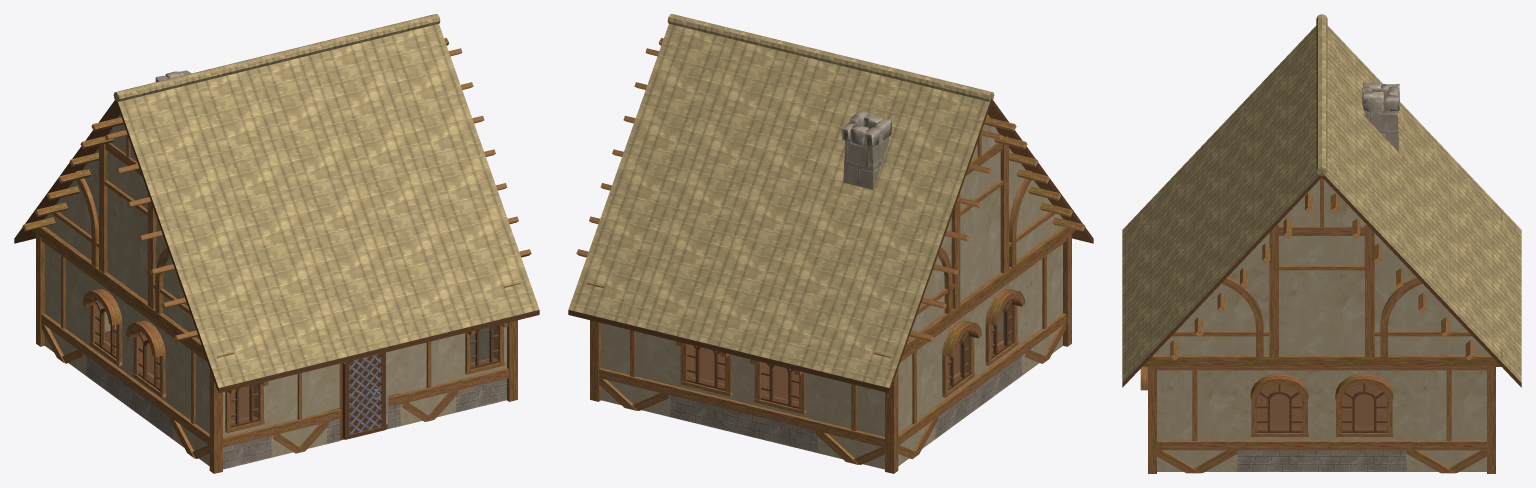
Rendered from house1.glb.
The picture shows the model from 3 angles, left to right: view 1: azimuth 30°, elevation 25°; view 2: azimuth 150°, elevation 25°; view 3: azimuth 270°, elevation 25°; orthographic projection. The views are drawn at different scales.
Visible parts, largest first — view 1: Wall_Plaster_Door_Round.001; view 2: Wall_Plaster_Door_Round.001; view 3: Wall_Plaster_Door_Round.001.
Boxes of the visible parts, x1,y1,x2,y2 form: Wall_Plaster_Door_Round.001: (14,14,539,473); Wall_Plaster_Door_Round.001: (568,14,1093,473); Wall_Plaster_Door_Round.001: (1122,14,1521,473).
Bounding box in the file's own units: 9.3 × 8 × 9.3.
20 materials, 19 textured.
